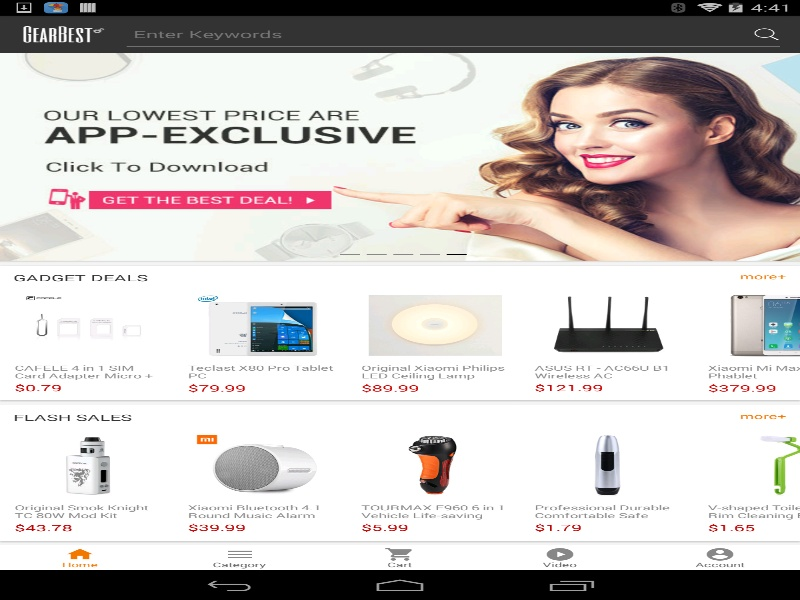Input: (126, 21, 780, 46)
